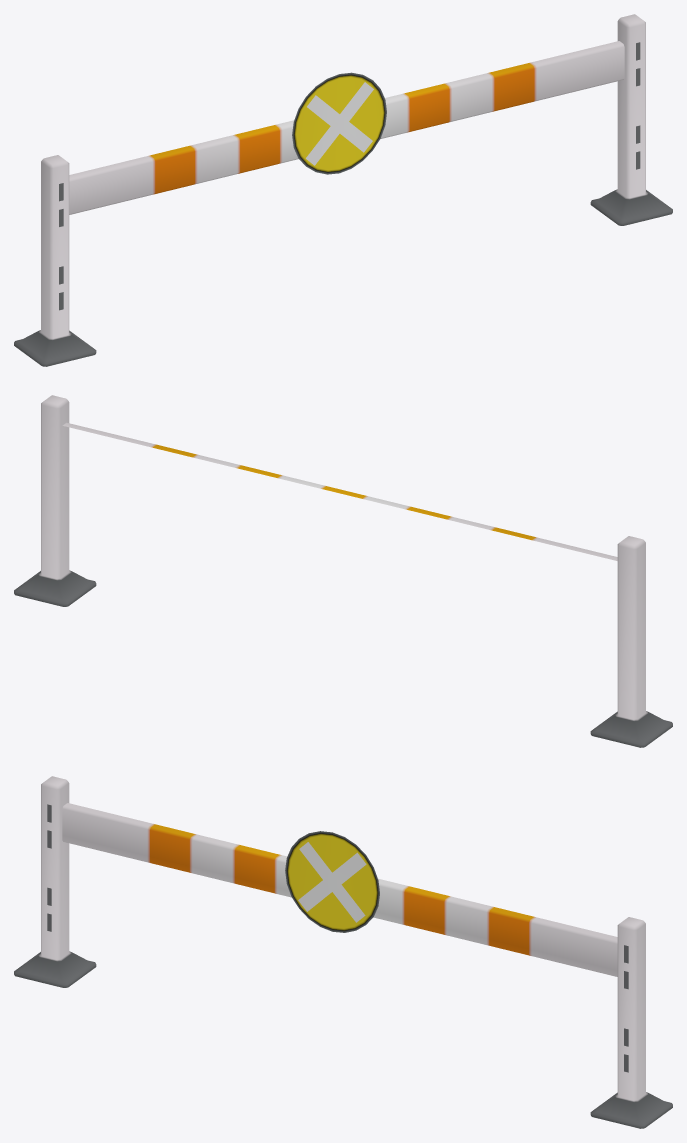
The model's file is ObstacleHighBarrier.prefab.glb.
3 renders of one model, top to bottom at view 1: azimuth 30°, elevation 25°; view 2: azimuth 150°, elevation 25°; view 3: azimuth 330°, elevation 25°, orthographic.
Parts seen in each view (by area): view 1: RoadWorksBarrierHigh; view 2: RoadWorksBarrierHigh; view 3: RoadWorksBarrierHigh.
Part boxes in pixels (x1,y1,x2,y2): RoadWorksBarrierHigh: [14, 14, 672, 366]; RoadWorksBarrierHigh: [14, 395, 672, 747]; RoadWorksBarrierHigh: [14, 776, 672, 1128].
Bounding box in the file's own units: 4.97 × 1.58 × 0.4257.
